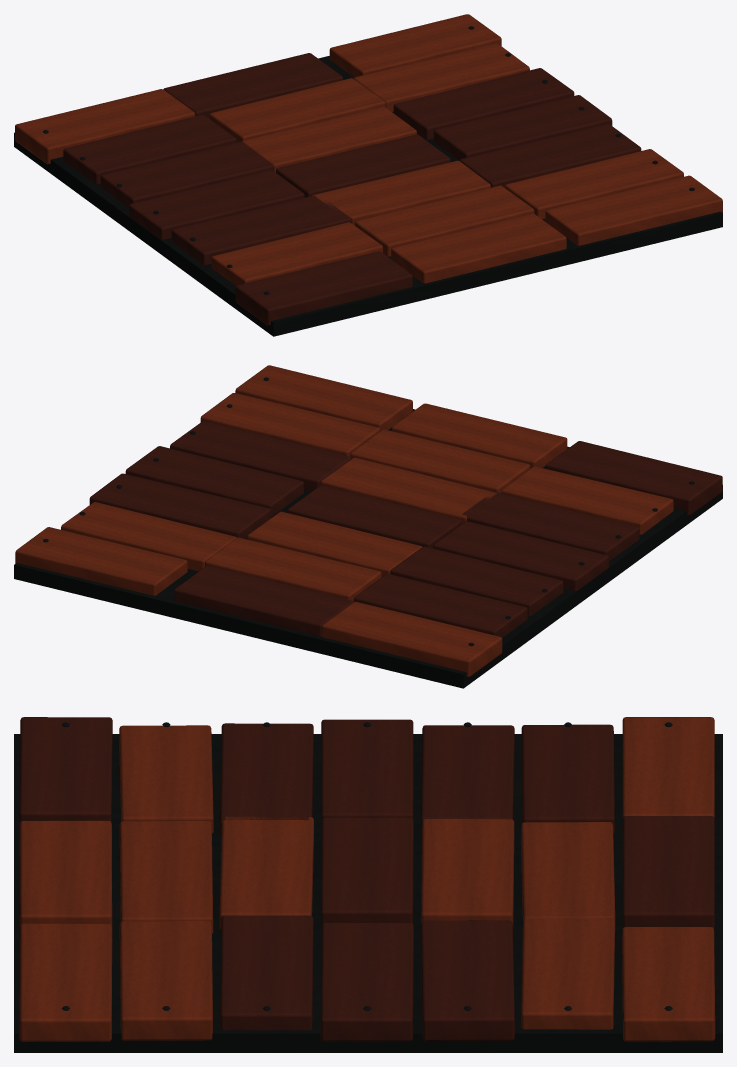
File: 09_Modular_Floorboards.fbx
3 renders of one model, top to bottom at view 1: azimuth 30°, elevation 25°; view 2: azimuth 150°, elevation 25°; view 3: azimuth 270°, elevation 25°, orthographic. The views are drawn at different scales.
Parts seen in each view (by area): view 1: Floor_Substrate.001, Floor_Plank_00_00.001, Floor_Plank_00_02.001, Floor_Plank_00_01.001, Floor_Plank_06_00.001, Floor_Plank_04_02.001, Floor_Plank_02_00.001, Floor_Plank_03_02.001, Floor_Plank_03_00.001, Floor_Plank_01_01.001, Floor_Plank_05_00.001, Floor_Plank_01_02.001 (+10 smaller); view 2: Floor_Substrate.001, Floor_Plank_06_00.001, Floor_Plank_06_01.001, Floor_Plank_06_02.001, Floor_Plank_00_00.001, Floor_Plank_04_02.001, Floor_Plank_03_00.001, Floor_Plank_03_02.001, Floor_Plank_02_00.001, Floor_Plank_00_02.001, Floor_Plank_02_02.001, Floor_Plank_00_01.001 (+10 smaller); view 3: Floor_Substrate.001, Floor_Plank_04_02.001, Floor_Plank_01_02.001, Floor_Plank_03_02.001, Floor_Plank_00_02.001, Floor_Plank_02_02.001, Floor_Plank_06_02.001, Floor_Plank_05_02.001, Floor_Plank_06_01.001, Floor_Plank_03_01.001, Floor_Plank_00_00.001, Floor_Plank_00_01.001 (+10 smaller).
Boxes of the visible parts, x1,y1,x2,y2 form: Floor_Substrate.001: (14, 56, 722, 336); Floor_Plank_00_00.001: (235, 251, 412, 325); Floor_Plank_00_02.001: (545, 175, 722, 245); Floor_Plank_00_01.001: (391, 213, 566, 283); Floor_Plank_06_00.001: (15, 89, 195, 164); Floor_Plank_04_02.001: (393, 68, 574, 139); Floor_Plank_02_00.001: (171, 195, 352, 264); Floor_Plank_03_02.001: (433, 95, 612, 160); Floor_Plank_03_00.001: (129, 170, 304, 239); Floor_Plank_01_01.001: (354, 185, 534, 256); Floor_Plank_05_00.001: (63, 114, 236, 184); Floor_Plank_01_02.001: (504, 149, 683, 219); Floor_Substrate.001: (14, 409, 722, 688); Floor_Plank_06_00.001: (322, 601, 502, 676); Floor_Plank_06_01.001: (174, 565, 353, 636); Floor_Plank_06_02.001: (15, 527, 187, 595); Floor_Plank_00_00.001: (545, 441, 722, 515); Floor_Plank_04_02.001: (89, 473, 270, 539); Floor_Plank_03_00.001: (433, 521, 608, 590); Floor_Plank_03_02.001: (125, 446, 303, 516); Floor_Plank_02_00.001: (462, 491, 639, 560); Floor_Plank_00_02.001: (235, 365, 412, 430); Floor_Plank_02_02.001: (170, 421, 351, 491); Floor_Plank_00_01.001: (391, 403, 567, 468); Floor_Substrate.001: (14, 734, 722, 1052); Floor_Plank_04_02.001: (420, 920, 514, 1041); Floor_Plank_01_02.001: (119, 921, 212, 1040); Floor_Plank_03_02.001: (320, 922, 413, 1041); Floor_Plank_00_02.001: (19, 923, 112, 1041); Floor_Plank_02_02.001: (220, 915, 313, 1030); Floor_Plank_06_02.001: (622, 927, 715, 1041); Floor_Plank_05_02.001: (521, 918, 614, 1029); Floor_Plank_06_01.001: (622, 816, 714, 928); Floor_Plank_03_01.001: (321, 817, 413, 926); Floor_Plank_00_00.001: (19, 717, 112, 826); Floor_Plank_00_01.001: (19, 820, 112, 926).
Bounding box in the file's own units: 3.04 × 0.178 × 3.
Materials: 4 (4 with a texture image).
